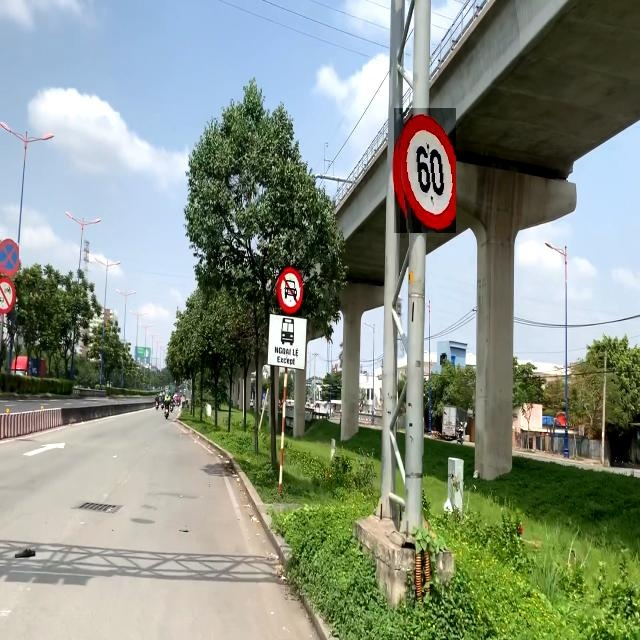bien_cam: (394, 108, 456, 233), (276, 266, 302, 316), (0, 238, 19, 278)
